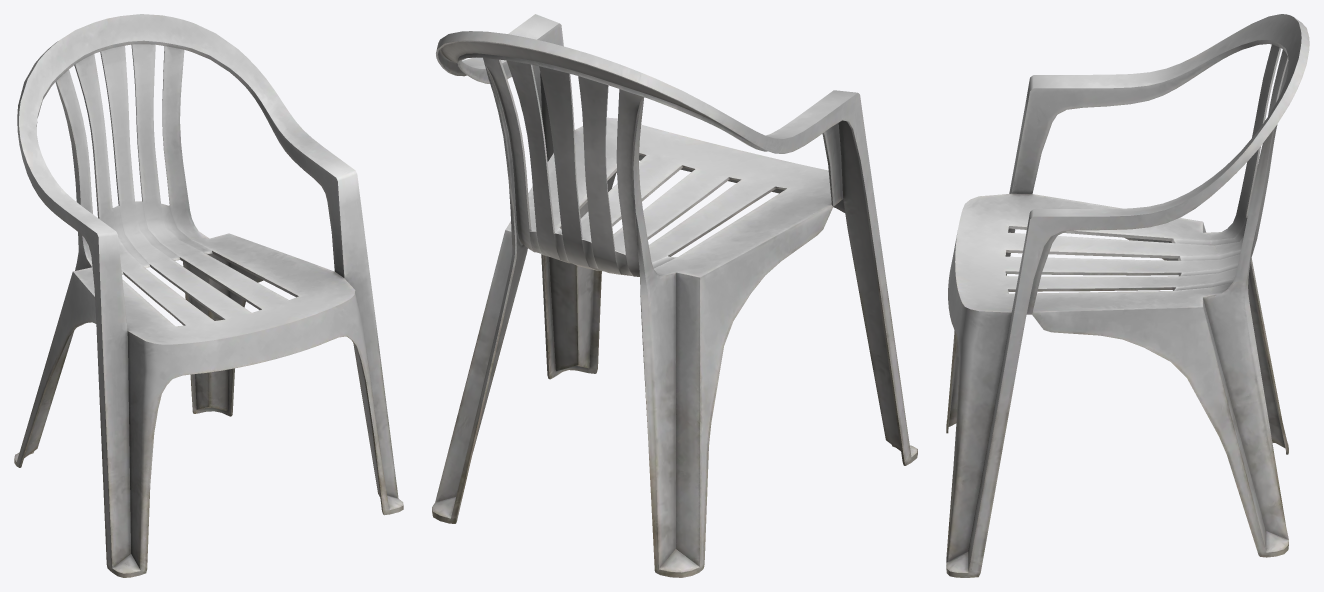
The model's file is plastic_monobloc_chair_01_1k-transformed.glb.
3 views of the same model, side by side, from view 1: azimuth 30°, elevation 25°; view 2: azimuth 150°, elevation 25°; view 3: azimuth 270°, elevation 25° (orthographic). The views are drawn at different scales.
Parts seen in each view (by area): view 1: plastic_monobloc_chair_01; view 2: plastic_monobloc_chair_01; view 3: plastic_monobloc_chair_01.
Part boxes in pixels (<box>): plastic_monobloc_chair_01: <box>14,14,403,577</box>; plastic_monobloc_chair_01: <box>432,14,917,577</box>; plastic_monobloc_chair_01: <box>946,14,1309,577</box>.
Size of the model in its own units: 0.6419 by 0.8798 by 0.6276.
Materials: 1 (1 with a texture image).
